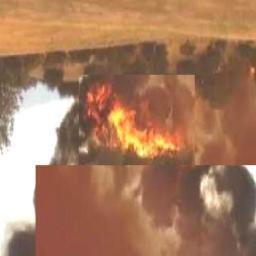Low smoke: (50, 60, 256, 256)
Small fire: (82, 87, 189, 153)
